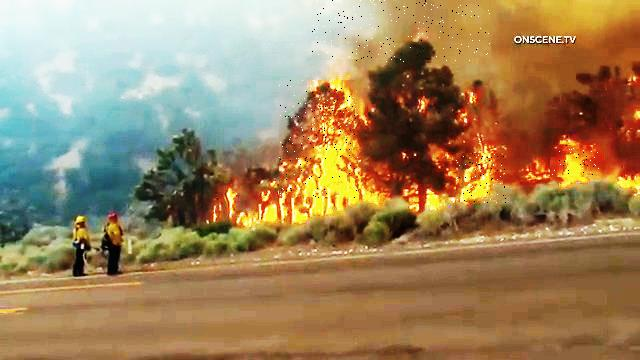fire: (279, 81, 358, 202), (457, 153, 507, 203), (551, 146, 602, 180)
smoke: (312, 1, 491, 63)
